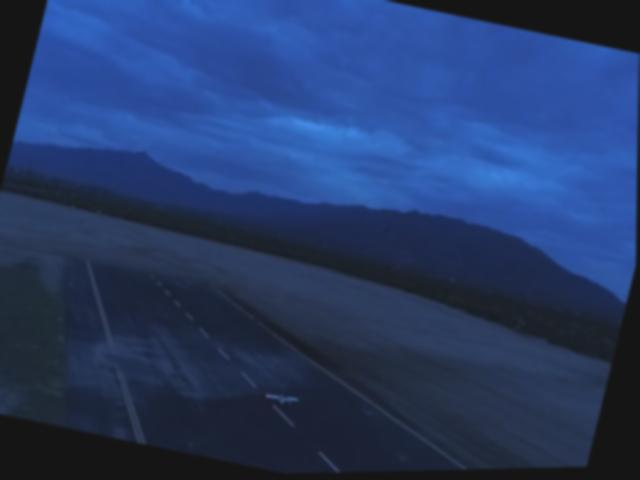plane: (263, 390, 302, 413)
